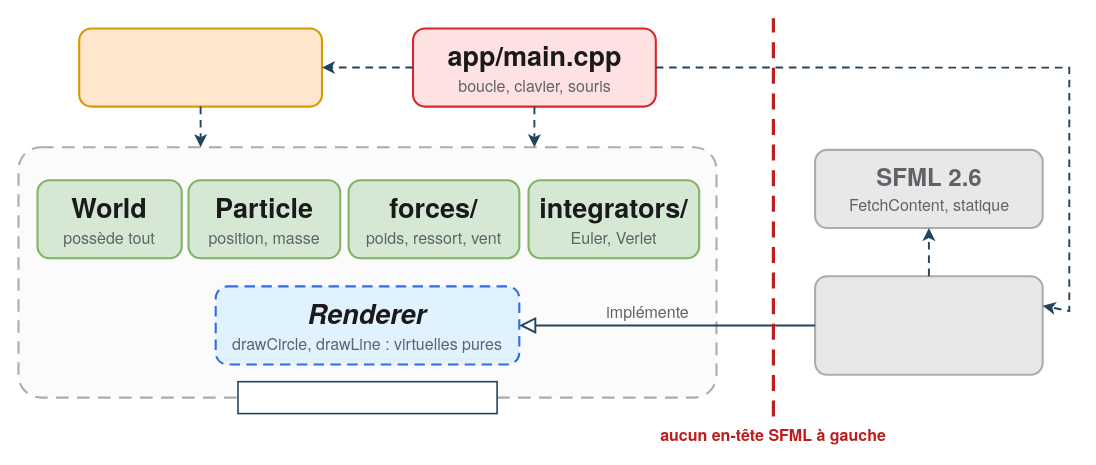
Image size: 1096x465. Some labels were removed from this diagram. The shapes that lost their labels are listed below. From the top down, each one's centre as x and y in pixels, then its label:
At point 200,67: "scenes/ 13 scènes = 13 fonctions".
At point 928,325: "render/ SFMLRender boîte noire".
At point 367,397: "MOTEUR PHYSIQUE".
